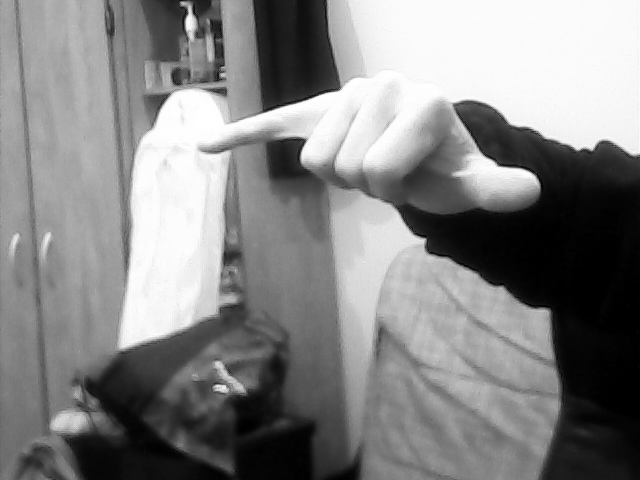aloha: (179, 60, 561, 223)
